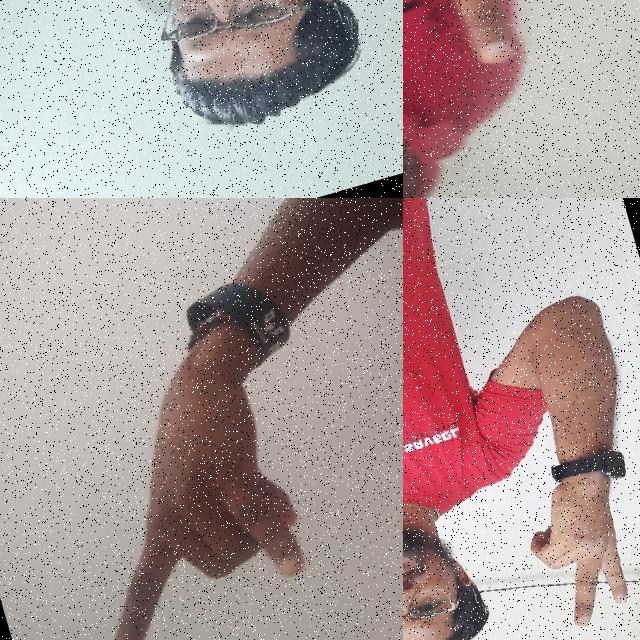Corna: (24, 305, 345, 640)
Fist Mouth: (87, 0, 371, 156)
Middle Finger: (403, 0, 575, 99)
Reversed Victory: (504, 456, 640, 640)
